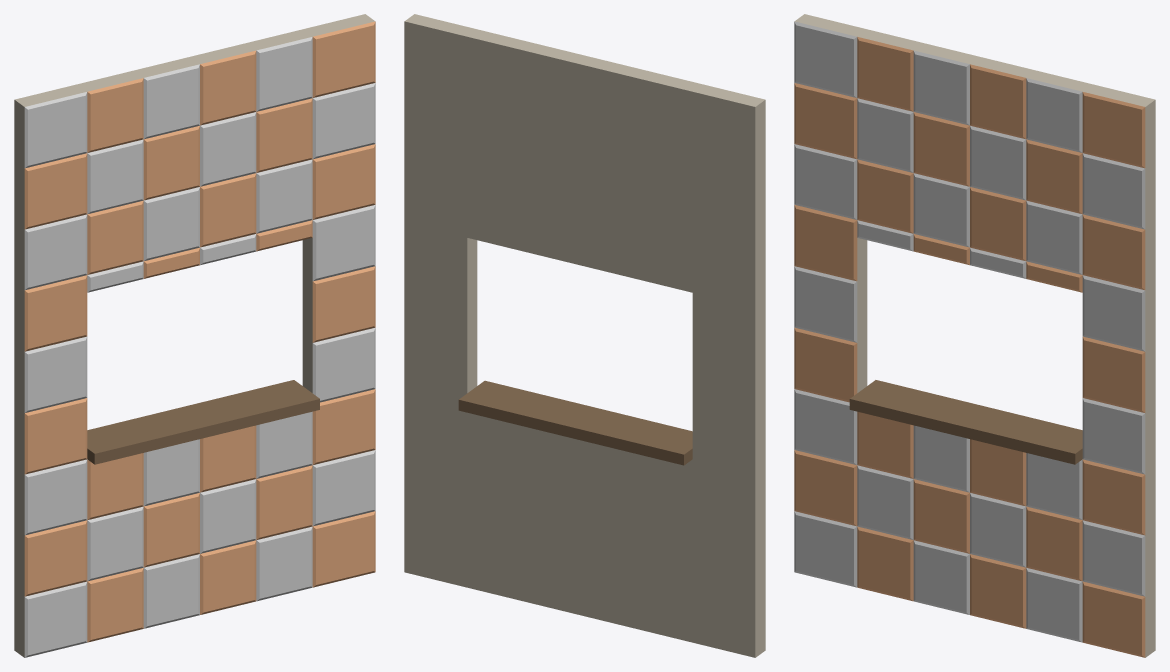
File: Mesh_WallCeramic_F3.fbx
3 views of the same model, side by side, from view 1: azimuth 30°, elevation 25°; view 2: azimuth 150°, elevation 25°; view 3: azimuth 330°, elevation 25° (orthographic).
Parts seen in each view (by area): view 1: Mesh_WallCeramic_F3; view 2: Mesh_WallCeramic_F3; view 3: Mesh_WallCeramic_F3.
Boxes of the visible parts, left/top/right/bottom form: Mesh_WallCeramic_F3: left=14, top=14, right=375, bottom=657; Mesh_WallCeramic_F3: left=404, top=14, right=765, bottom=657; Mesh_WallCeramic_F3: left=794, top=14, right=1155, bottom=657.
Size of the model in its own units: 2 by 3 by 0.2574.
